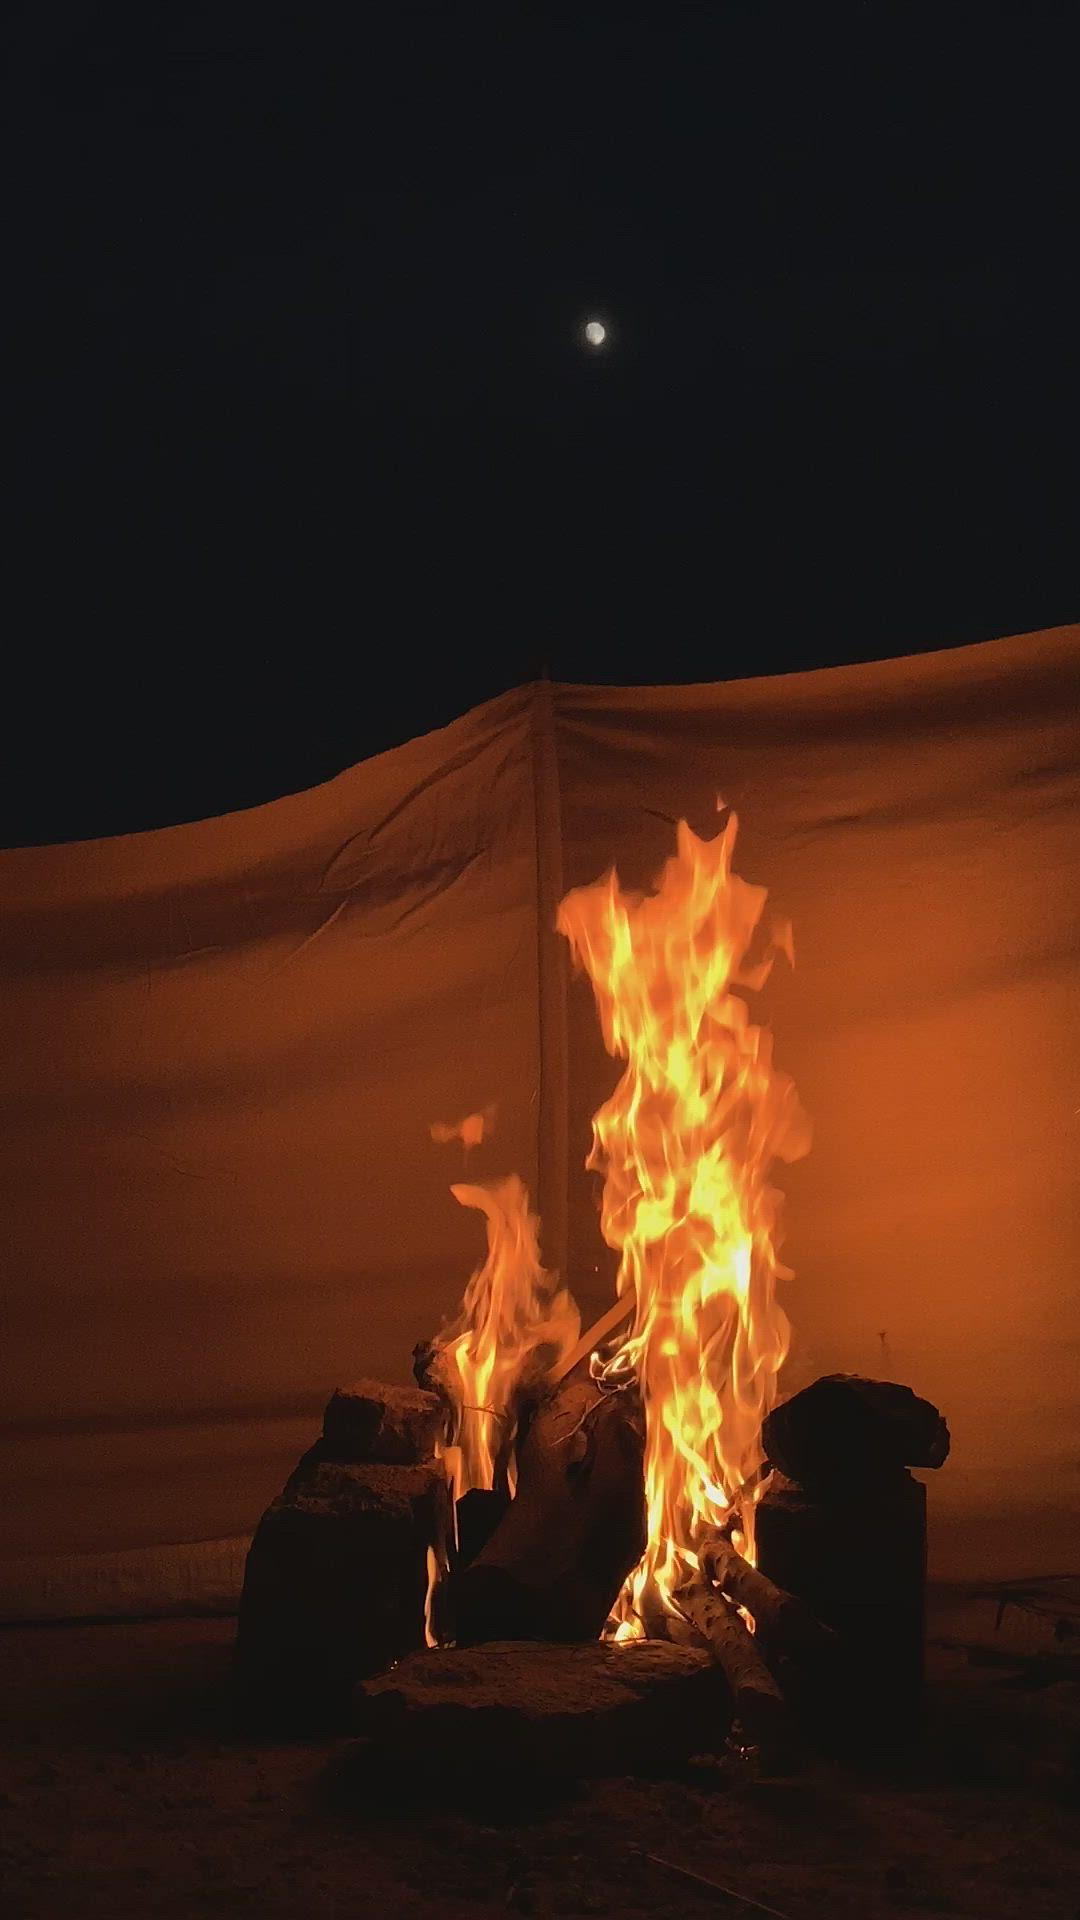Fire: (425, 789, 800, 1644)
